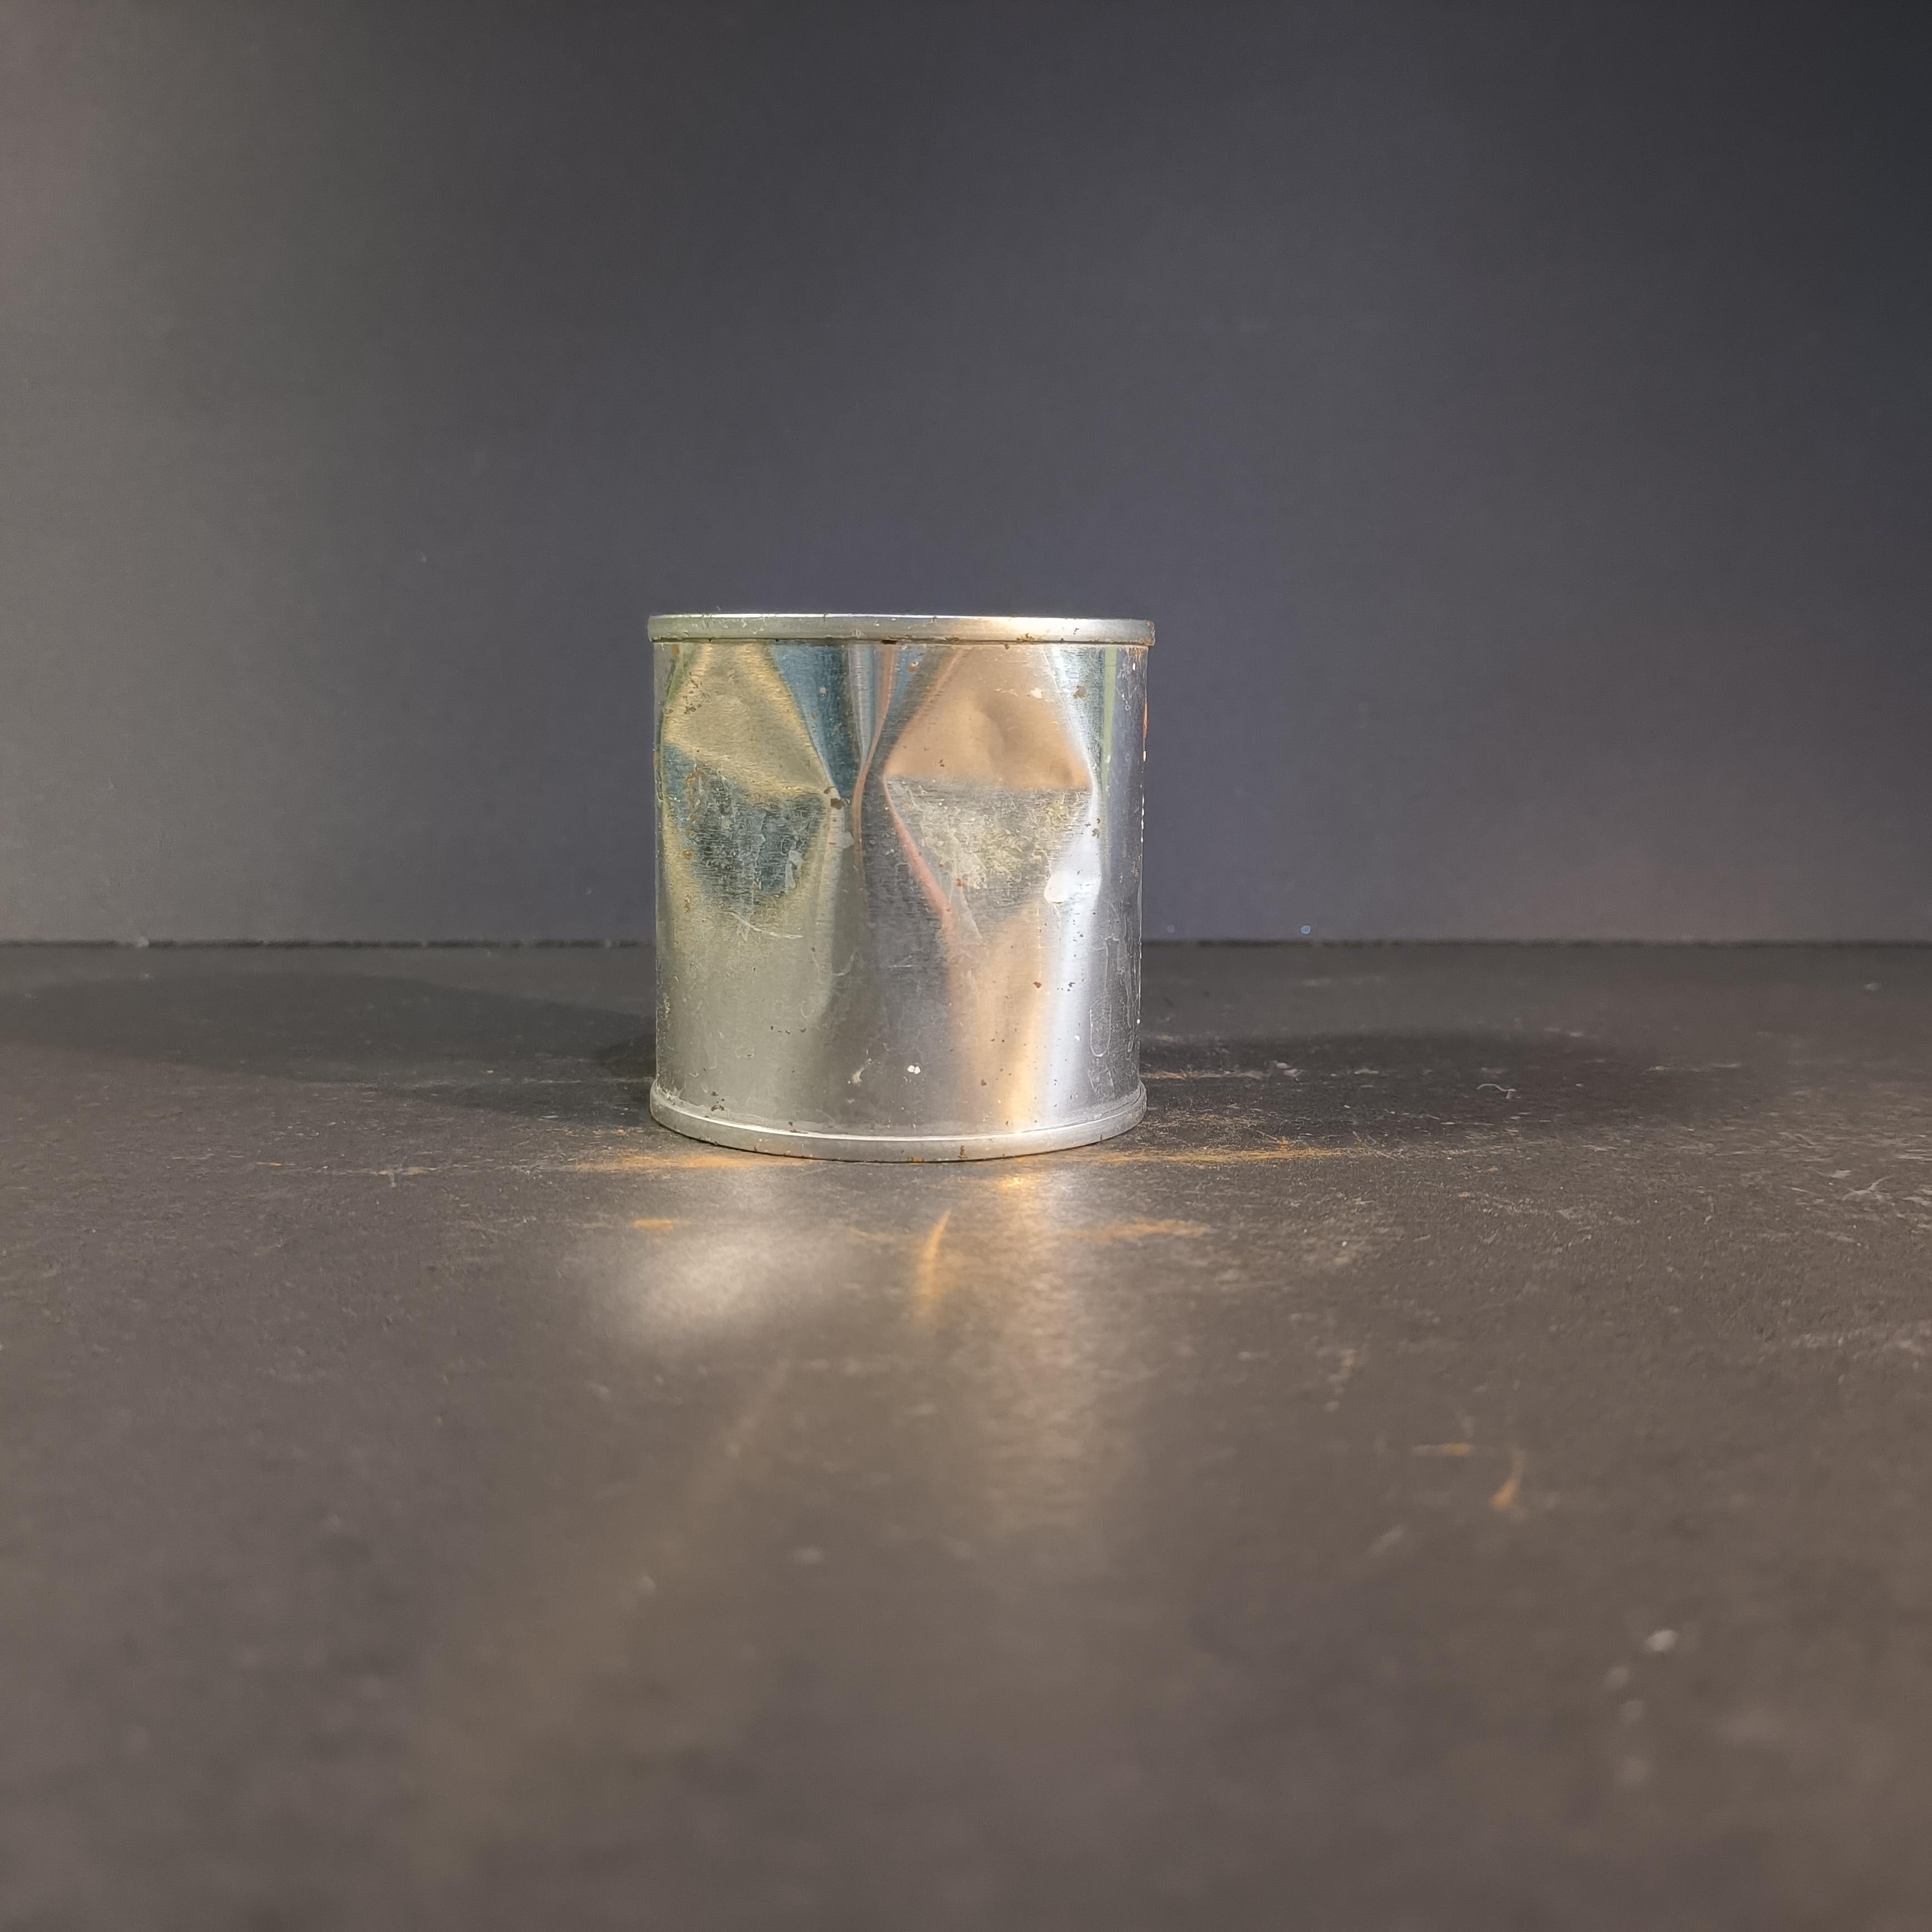Dented: (623, 587, 1171, 1175)
